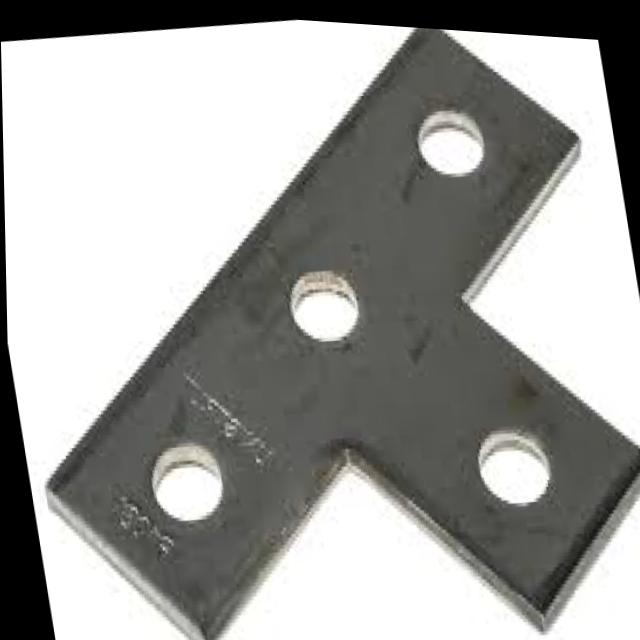holes: (144, 434, 228, 524), (472, 416, 556, 502), (283, 261, 364, 340), (412, 98, 490, 173)
